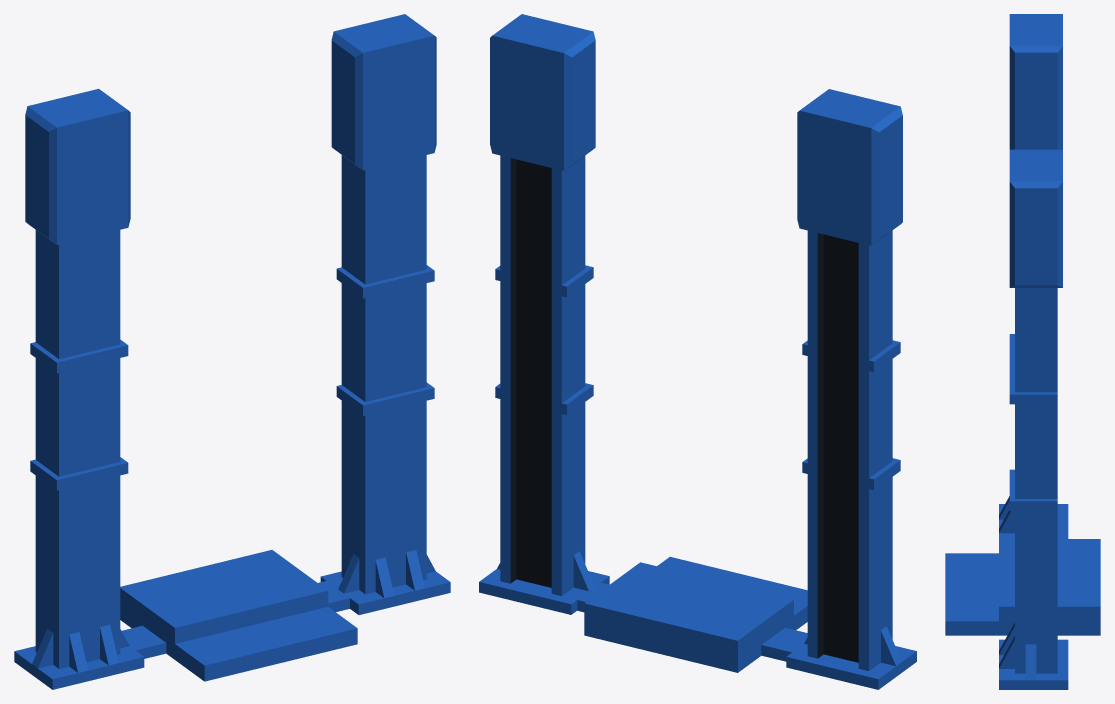
File: Spill-Lift1.fbx
3 renders of one model, left to right at view 1: azimuth 30°, elevation 25°; view 2: azimuth 150°, elevation 25°; view 3: azimuth 270°, elevation 25°, orthographic. The views are drawn at different scales.
Parts seen in each view (by area): view 1: Spill-Lift1; view 2: Spill-Lift1; view 3: Spill-Lift1.
Part boxes in pixels (x1,y1,x2,y2): Spill-Lift1: (14,14,450,689); Spill-Lift1: (479,14,916,689); Spill-Lift1: (945,14,1100,689).
Bounding box in the file's own units: 3.9 × 5.2 × 1.45.
1 material, 1 textured.
